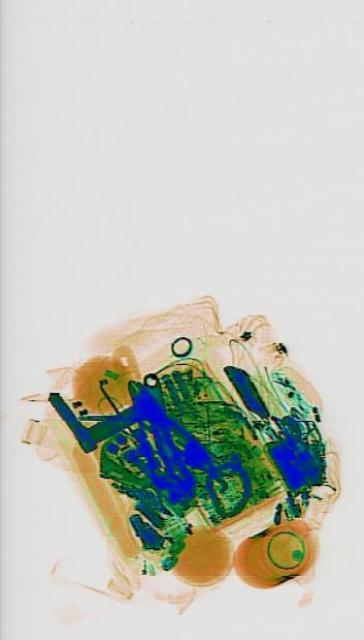Pliers: (114, 358, 208, 499)
Wrench: (137, 367, 181, 505)
